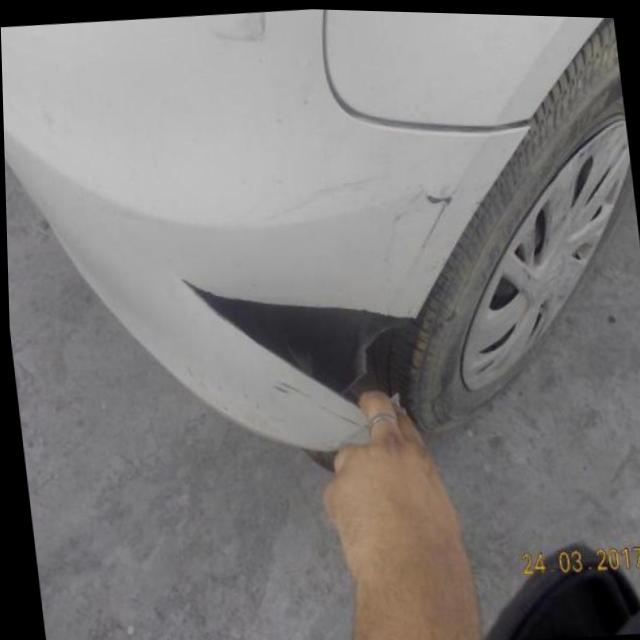Car-Damage: (182, 262, 430, 426), (414, 184, 460, 249), (205, 8, 274, 49)
